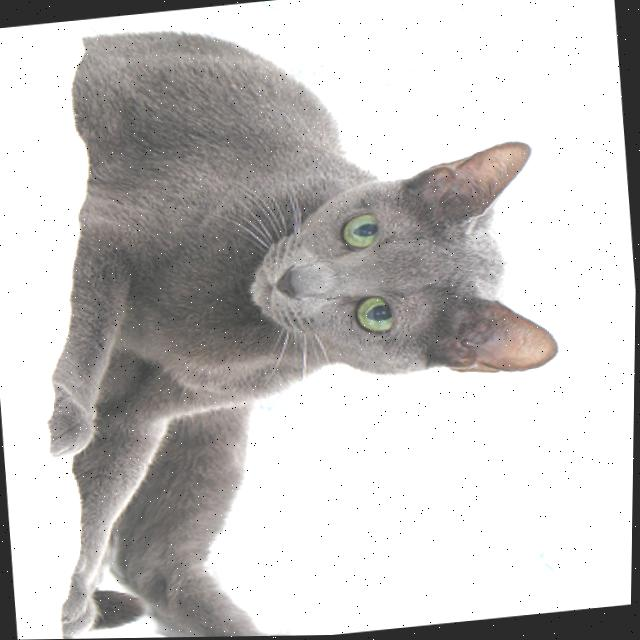Russian Blue: (7, 0, 593, 640)
